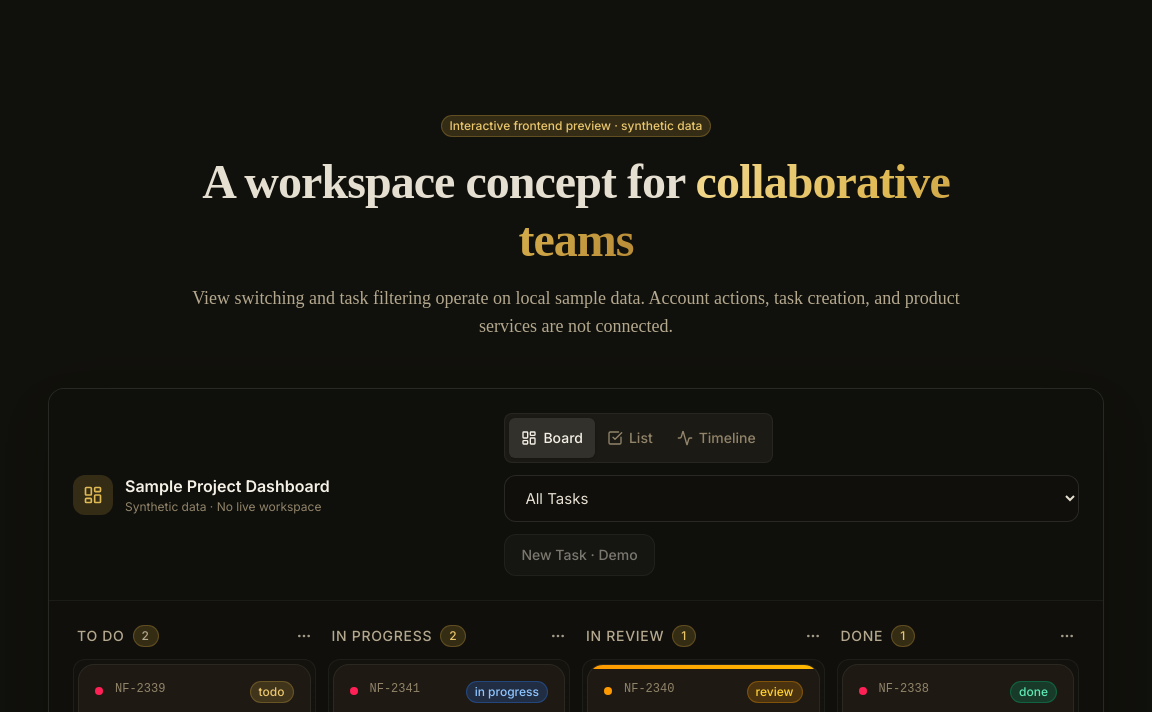
it: ProductShowcase › exposes the active dashboard view to assistive technology
This screenshot has width=1152, height=712.
Click the tab "List" at (630, 438), box [595,418,665,458]
(page scrolled)
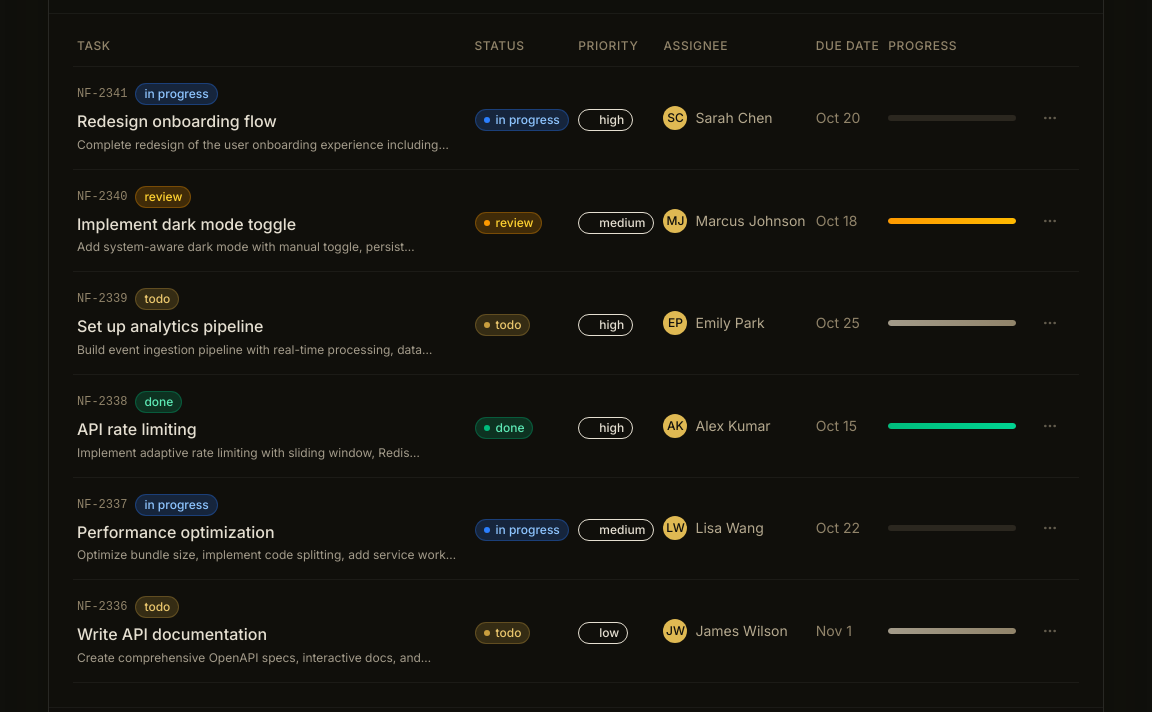
Result: the element named "scrollable task table" is shown
